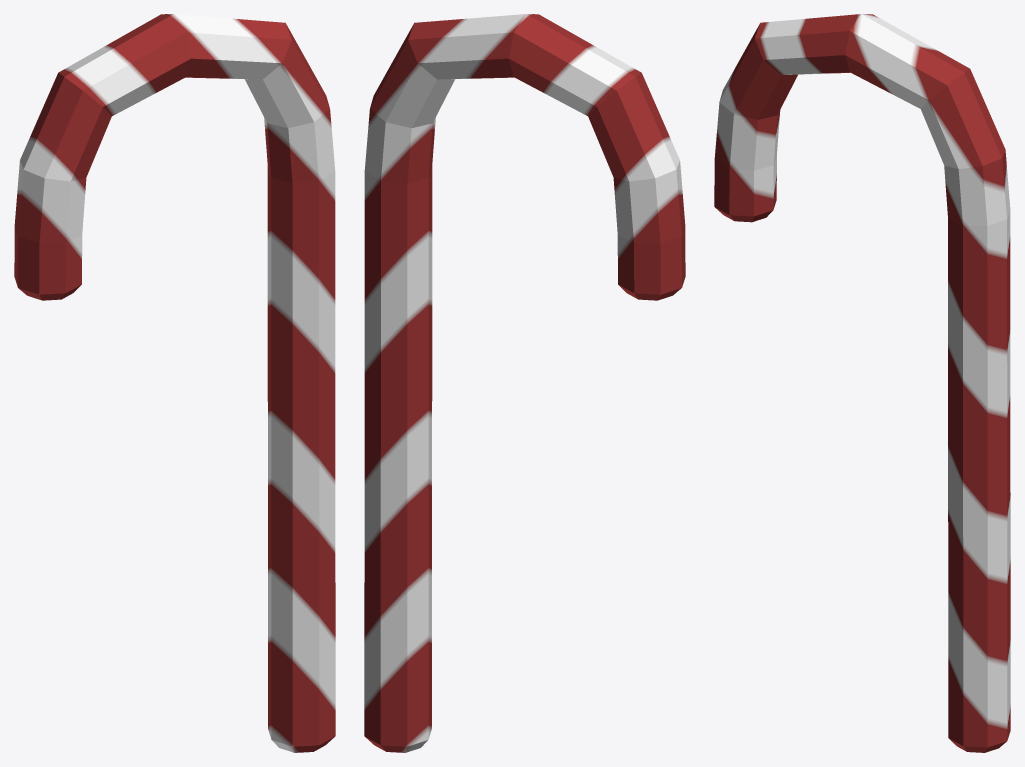
File: CandyCane.fbx
The picture shows the model from 3 angles, left to right: view 1: azimuth 30°, elevation 25°; view 2: azimuth 150°, elevation 25°; view 3: azimuth 330°, elevation 25°; orthographic projection. The views are drawn at different scales.
Parts seen in each view (by area): view 1: CandyCane; view 2: CandyCane; view 3: CandyCane.
Part boxes in pixels (x1,y1,x2,y2): CandyCane: (14, 14, 335, 752); CandyCane: (364, 14, 685, 752); CandyCane: (714, 14, 1010, 752).
Bounding box in the file's own units: 101 × 234 × 19.6.
